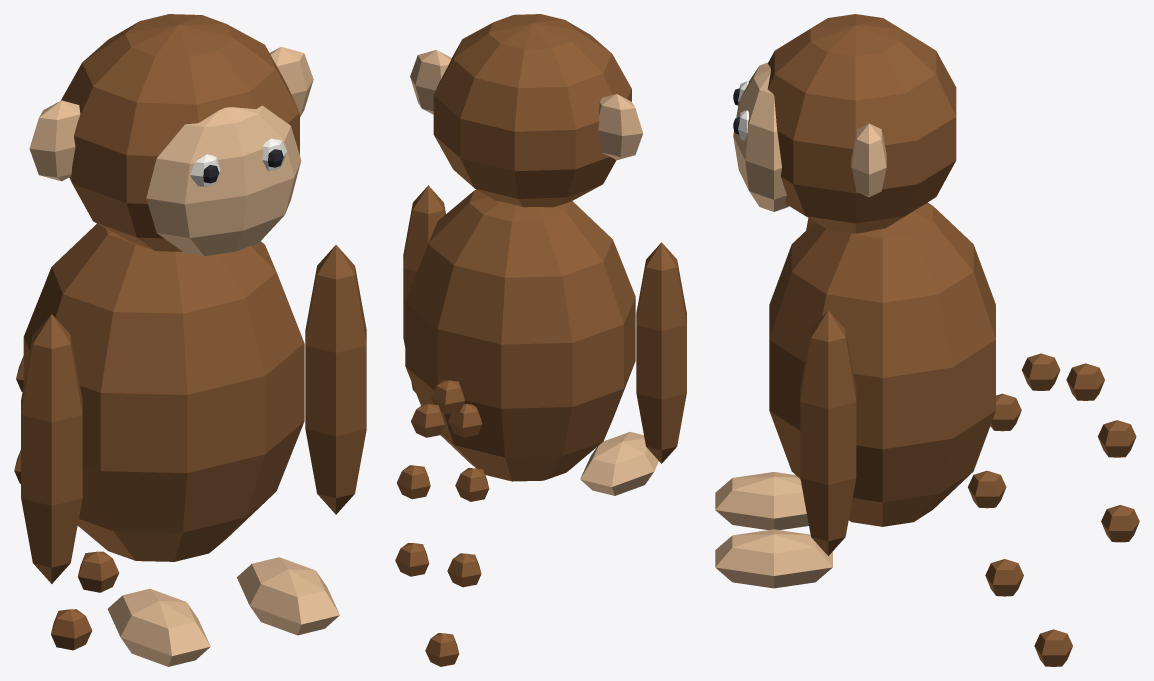
Rendered from animal_monkey.glb.
3 views of the same model, side by side, from view 1: azimuth 30°, elevation 25°; view 2: azimuth 150°, elevation 25°; view 3: azimuth 270°, elevation 25° (orthographic). The views are drawn at different scales.
Visible parts, largest first — view 1: body_monkey_fur, head_monkey_fur, arms_monkey_fur, face_monkey_skin, feet_monkey_skin, head_monkey_skin, tail_monkey_fur, face_circus_white; view 2: body_monkey_fur, head_monkey_fur, arms_monkey_fur, tail_monkey_fur, head_monkey_skin, feet_monkey_skin; view 3: body_monkey_fur, head_monkey_fur, arms_monkey_fur, feet_monkey_skin, tail_monkey_fur, face_monkey_skin, head_monkey_skin.
Part boxes in pixels (x1,y1,x2,y2): body_monkey_fur: [23, 223, 304, 561]; head_monkey_fur: [61, 14, 299, 251]; arms_monkey_fur: [21, 245, 366, 583]; face_monkey_skin: [146, 105, 301, 256]; feet_monkey_skin: [107, 557, 339, 666]; head_monkey_skin: [29, 47, 313, 181]; tail_monkey_fur: [14, 356, 119, 650]; face_circus_white: [190, 138, 286, 187]; body_monkey_fur: [405, 189, 635, 481]; head_monkey_fur: [433, 14, 631, 207]; arms_monkey_fur: [403, 185, 686, 463]; tail_monkey_fur: [395, 380, 489, 666]; head_monkey_skin: [410, 50, 643, 160]; feet_monkey_skin: [580, 432, 658, 495]; body_monkey_fur: [769, 202, 995, 526]; head_monkey_fur: [767, 14, 956, 233]; arms_monkey_fur: [800, 218, 856, 556]; feet_monkey_skin: [715, 472, 832, 588]; tail_monkey_fur: [968, 353, 1139, 666]; face_monkey_skin: [733, 62, 788, 211]; head_monkey_skin: [851, 123, 886, 196].
Size of the model in its own units: 0.5351 by 1.04 by 0.6251.
